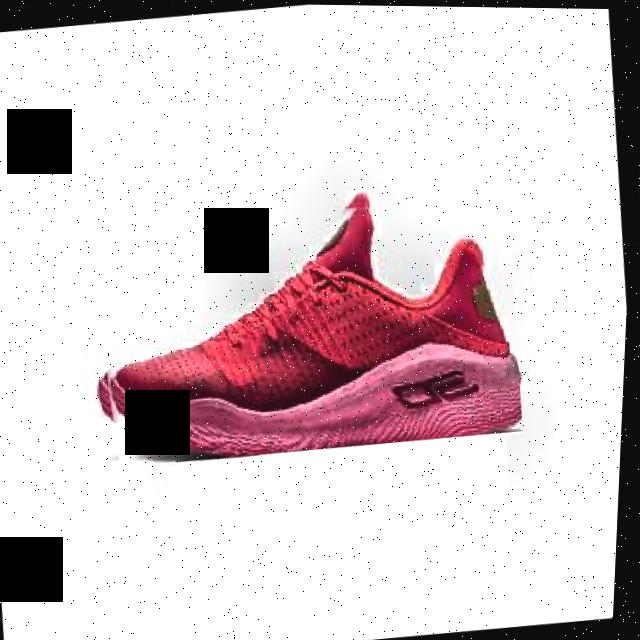shoe: (79, 175, 535, 473)
